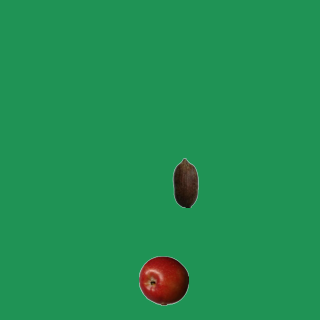Apple Braeburn: (138, 255, 188, 305)
Nut Pecan: (160, 157, 210, 207)
